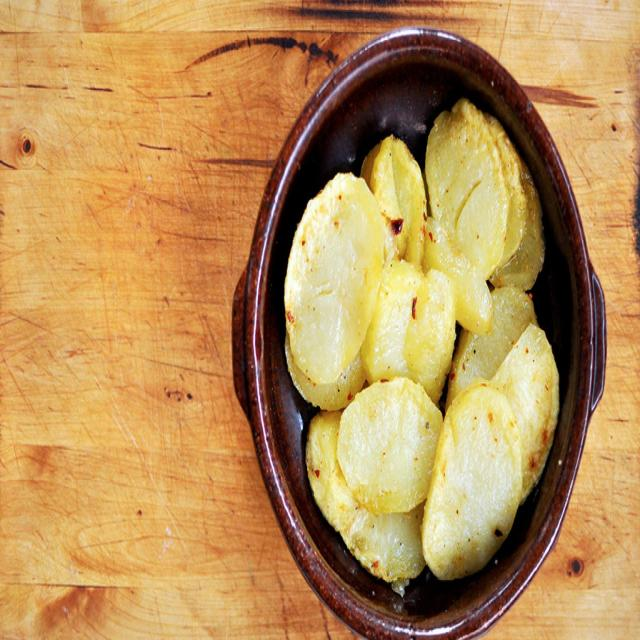papa: (273, 80, 572, 594)
